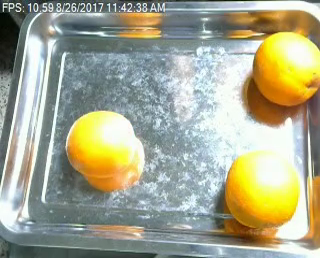Orange: (252, 31, 320, 105), (64, 110, 133, 176)
